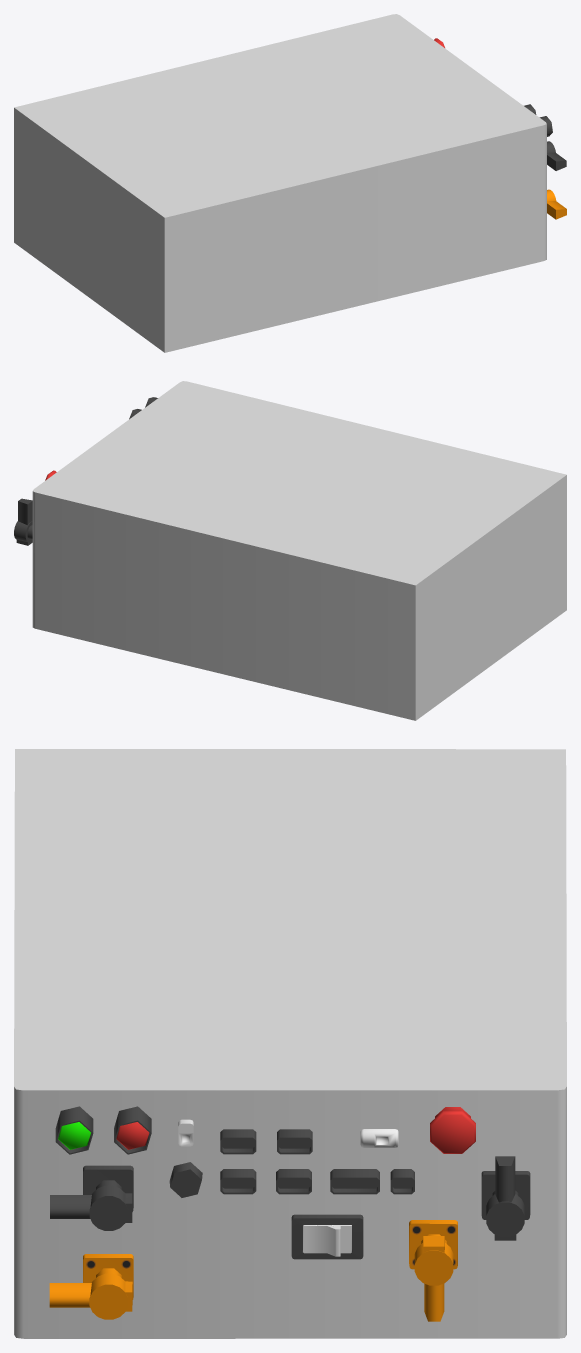
File: HVB.glb
The picture shows the model from 3 angles, top to bottom: view 1: azimuth 30°, elevation 25°; view 2: azimuth 150°, elevation 25°; view 3: azimuth 270°, elevation 25°; orthographic projection. The views are drawn at different scales.
Visible parts, largest first — view 1: HVB; view 2: HVB; view 3: HVB.
Boxes of the visible parts, x1=… form: HVB: x1=14, y1=14, x2=566, y2=352; HVB: x1=14, y1=381, x2=566, y2=720; HVB: x1=14, y1=749, x2=566, y2=1338.
Size of the model in its own units: 0.8973 by 0.2828 by 0.5705.
Materials: 1 (1 with a texture image).
